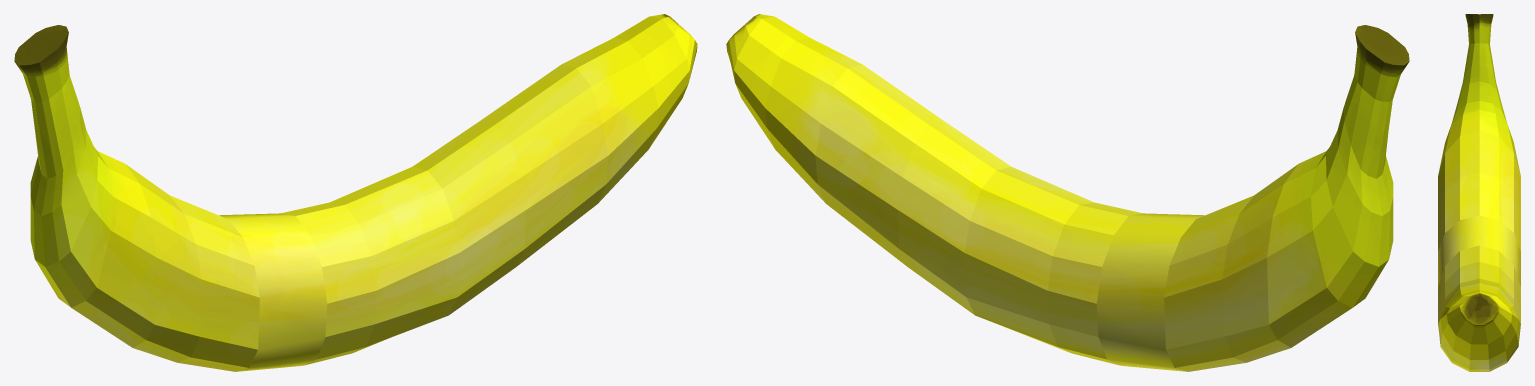
File: Fruit_Banana.fbx
3 renders of one model, left to right at view 1: azimuth 30°, elevation 25°; view 2: azimuth 150°, elevation 25°; view 3: azimuth 270°, elevation 25°, orthographic. The views are drawn at different scales.
Parts seen in each view (by area): view 1: pCylinder1; view 2: pCylinder1; view 3: pCylinder1.
Part boxes in pixels (<box>): pCylinder1: <box>14,14,697,371</box>; pCylinder1: <box>726,14,1409,371</box>; pCylinder1: <box>1438,14,1520,371</box>.
Bounding box in the file's own units: 11.24 × 6.21 × 1.85.
1 material, 1 textured.
